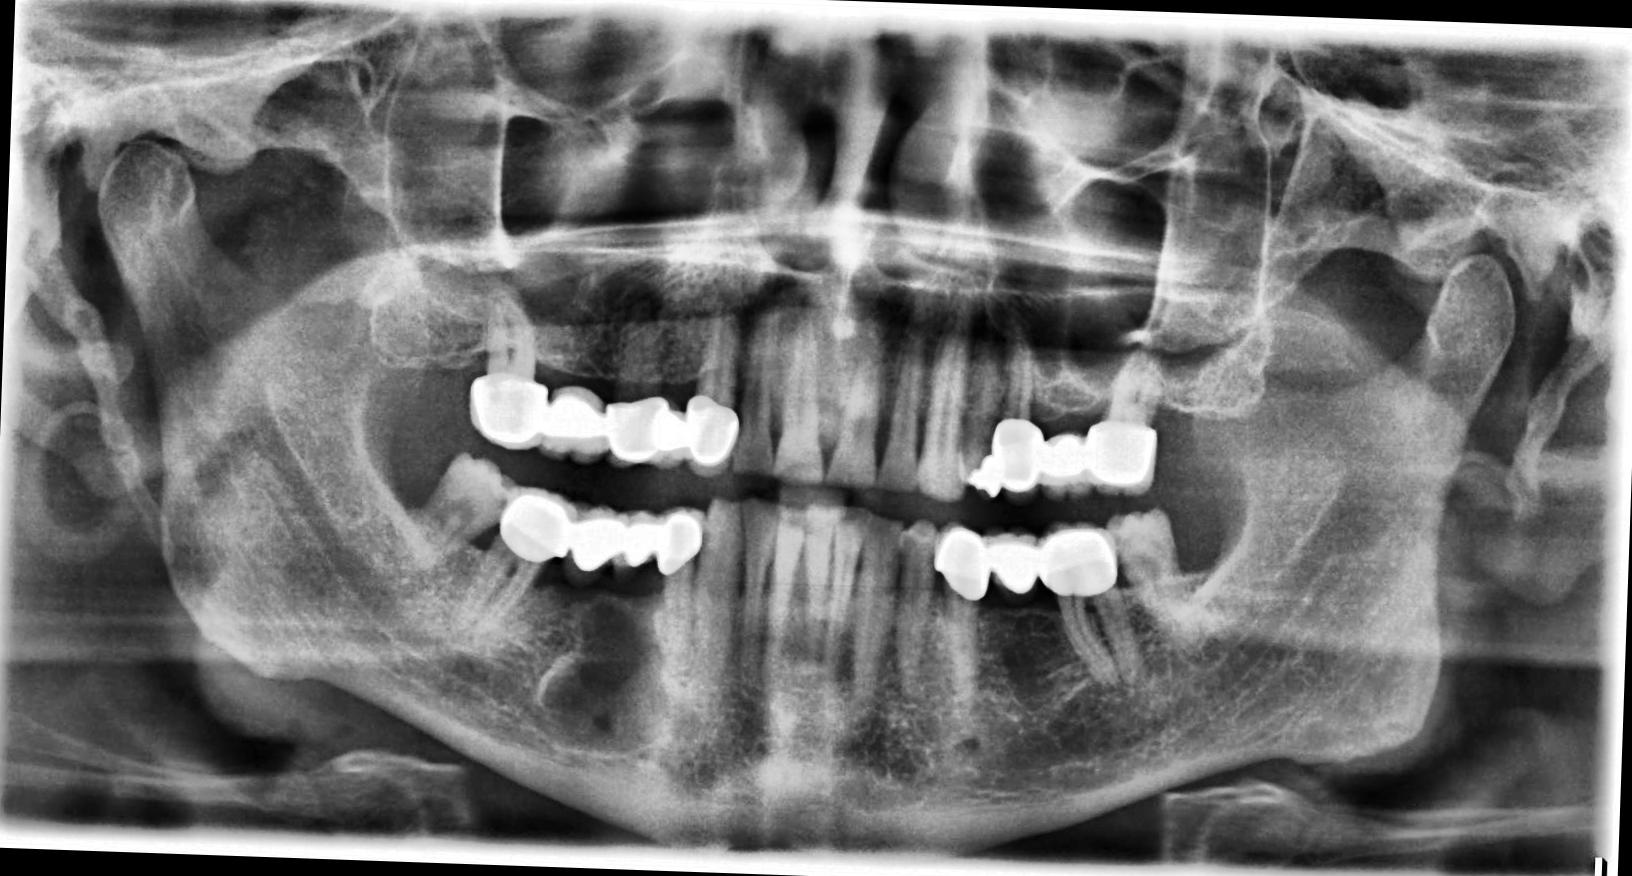okc: (534, 591, 678, 761)
